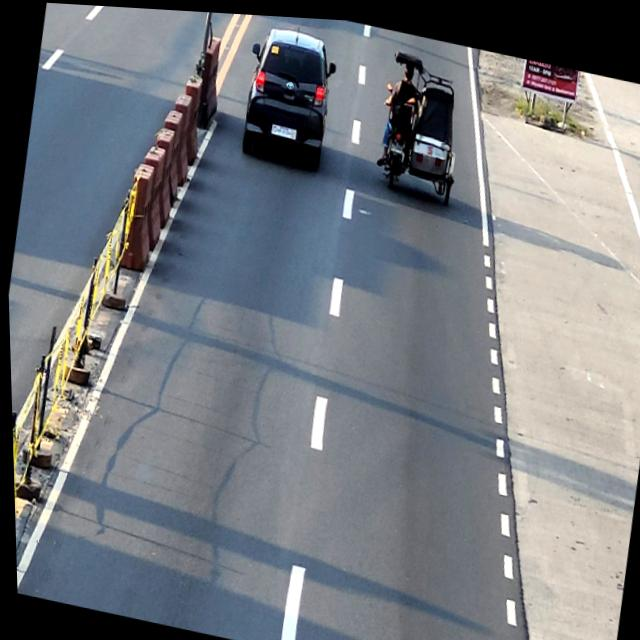Car: (234, 18, 342, 170)
License-Plate: (274, 122, 292, 136), (390, 138, 403, 149)
Tricycle: (370, 44, 472, 202)
